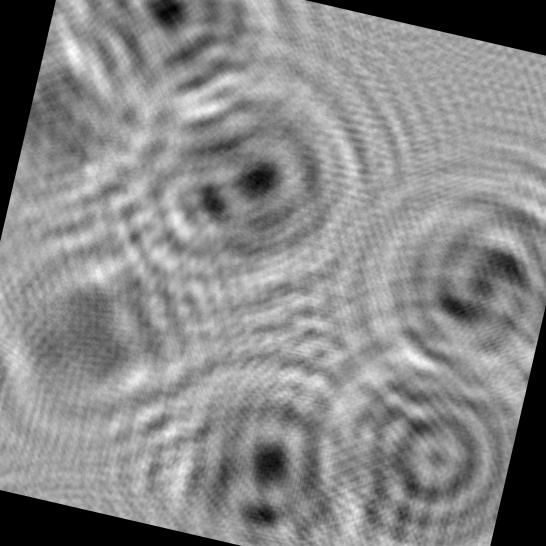P: (29, 0, 312, 171)
Q: (271, 292, 538, 546)
R: (72, 26, 400, 343), (115, 330, 404, 546)
S: (310, 130, 546, 439)
T: (0, 194, 248, 486), (2, 1, 178, 258)
